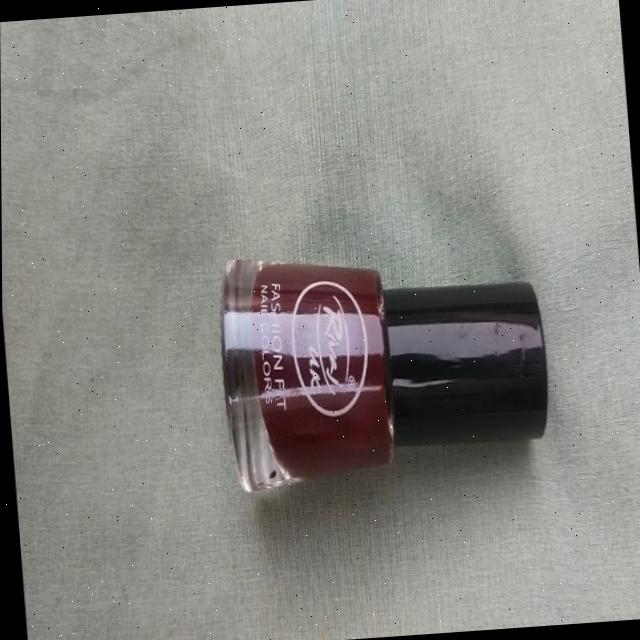nail polish: (188, 162, 598, 578)
